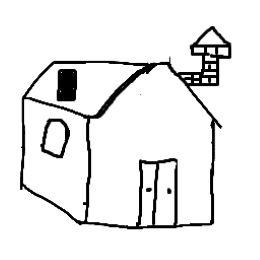chimney: (176, 21, 241, 94), (55, 66, 79, 107)
door: (131, 157, 184, 229)
open_window: (36, 114, 79, 169)
roof: (20, 52, 225, 128)
wall: (81, 112, 226, 233)
